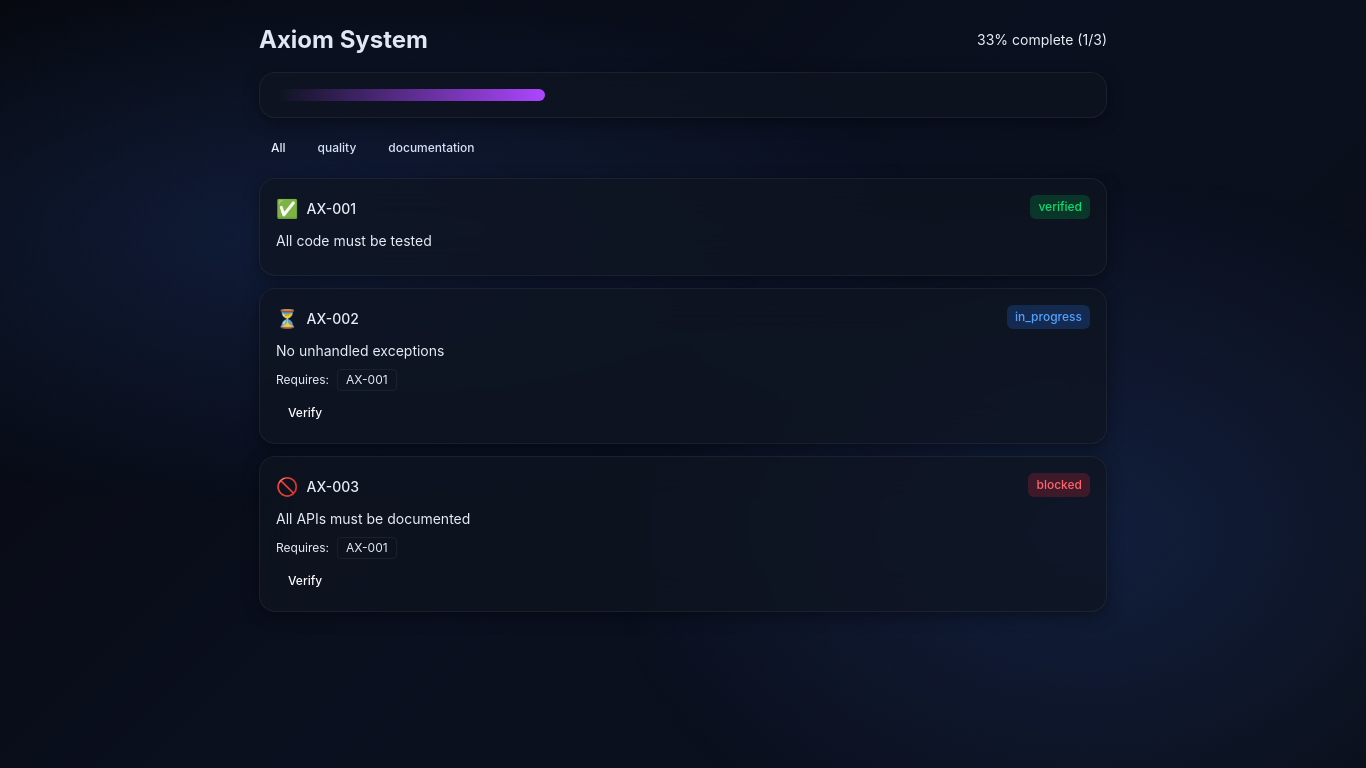
Test case: AxiomsPanel › updates progress after verification
Check: the text "33% complete (1/3)" is shown, box [977,30,1107,50]
Click the button "Verify" below "No unhandled exceptions" at (305, 413), box [276,399,334,427]
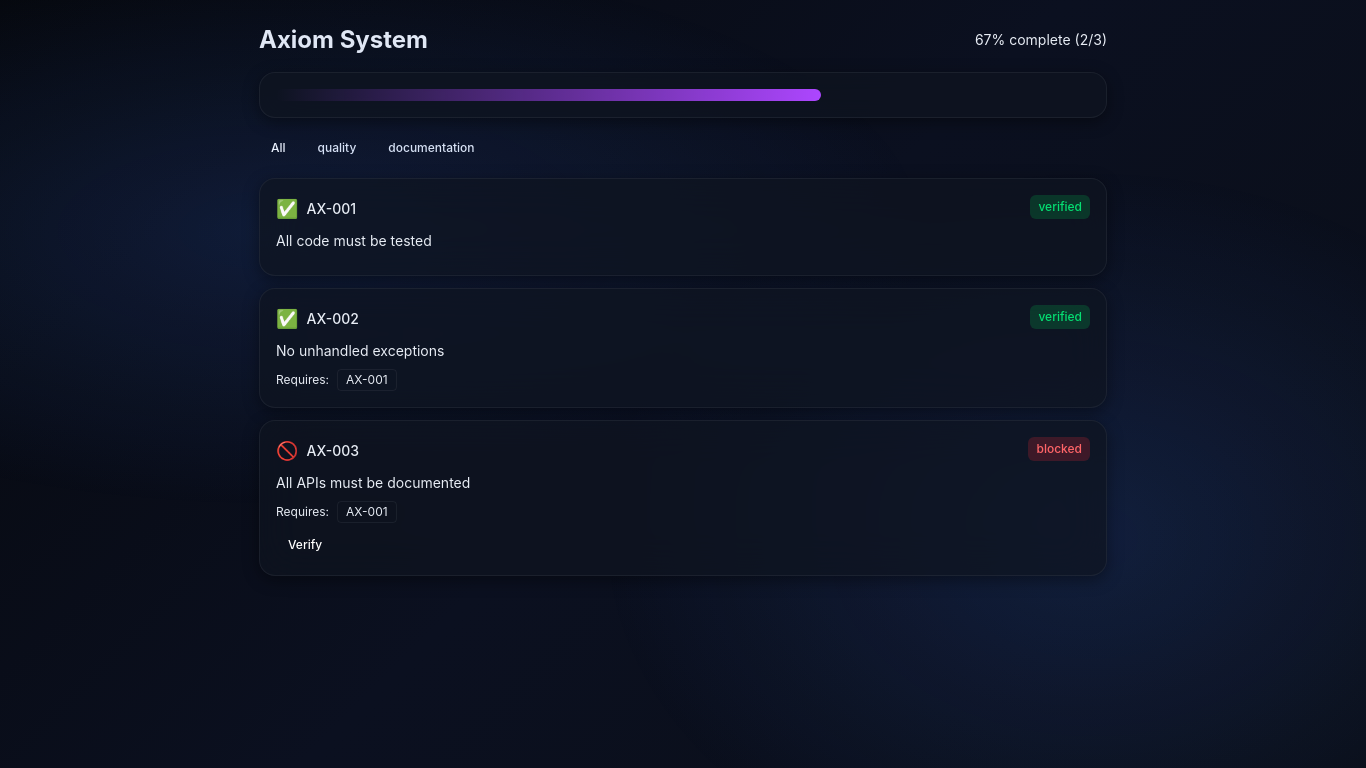
Check: the text "67% complete (2/3)" is shown, box [975,30,1107,50]
